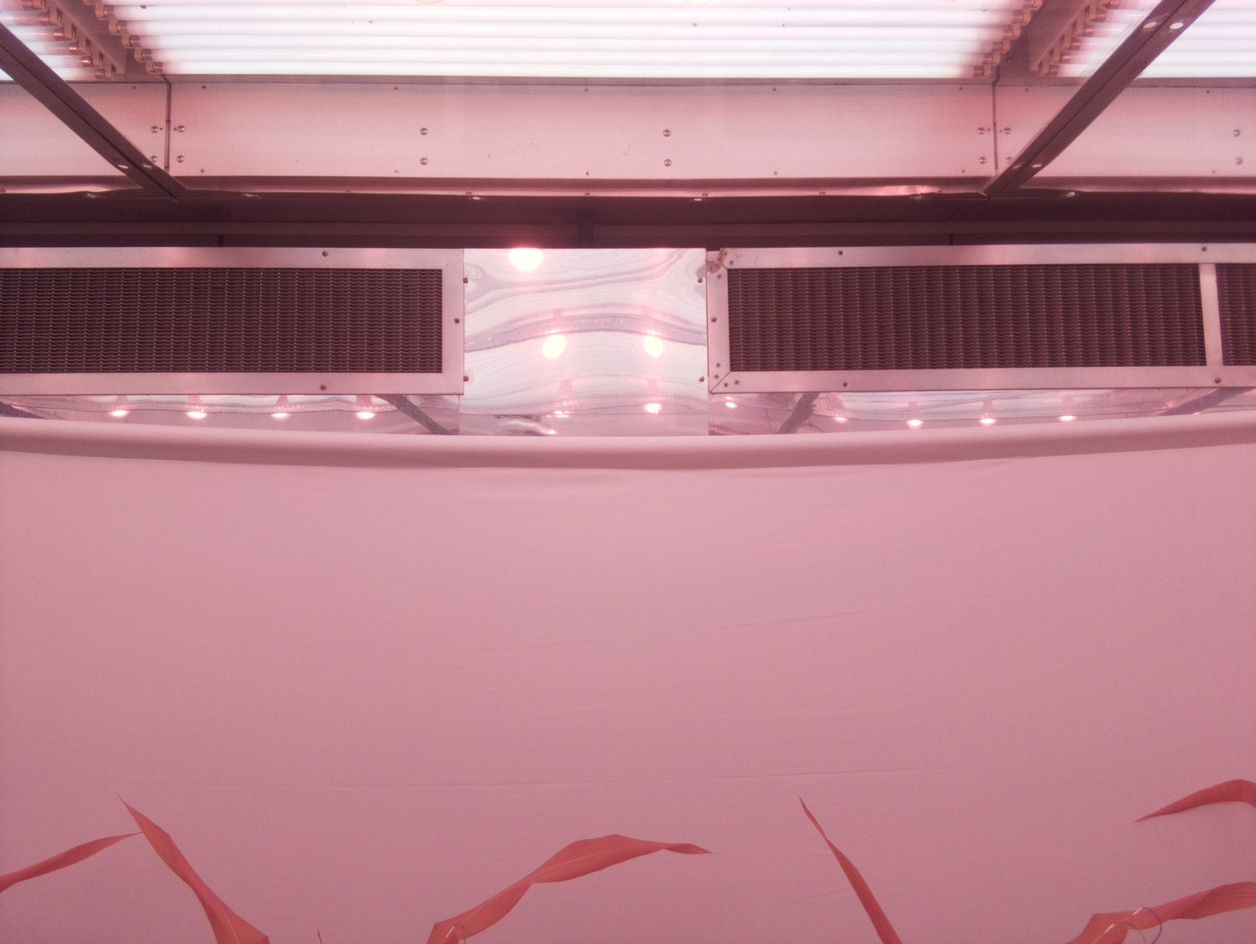maize: (0, 795, 718, 944), (797, 779, 1256, 944)
